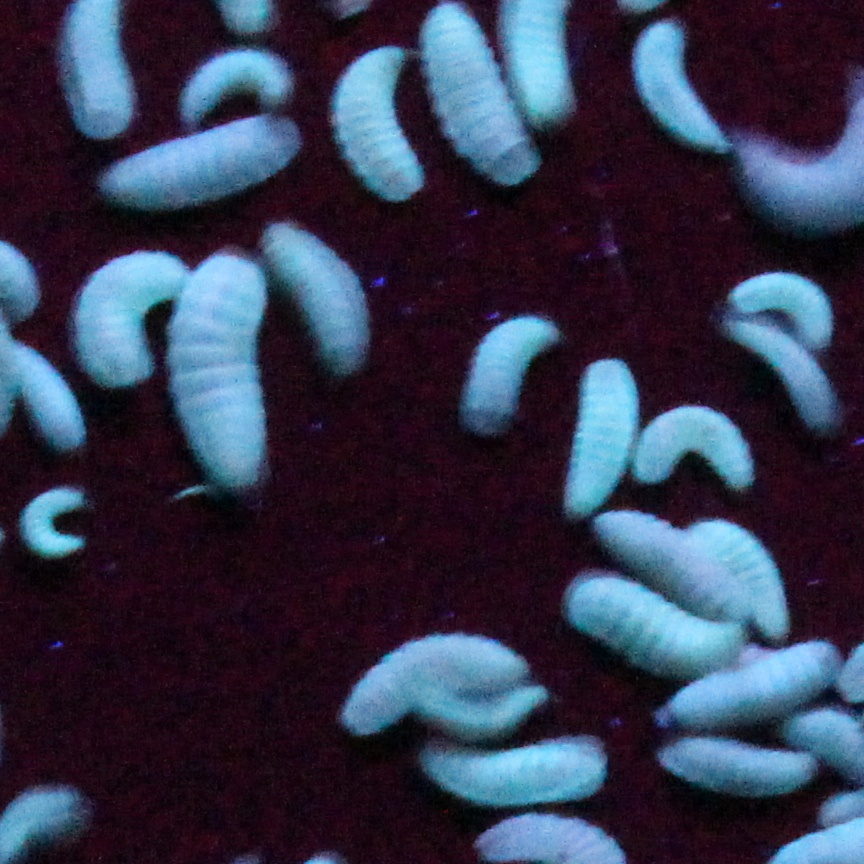larve: (187, 245, 268, 487), (114, 125, 291, 211), (436, 10, 526, 178), (275, 232, 377, 367), (615, 506, 732, 606), (591, 580, 728, 663), (78, 248, 164, 380), (686, 653, 828, 728), (345, 646, 496, 716), (643, 34, 726, 150), (347, 60, 417, 196), (430, 741, 601, 794), (464, 318, 540, 436), (573, 366, 628, 513), (743, 324, 826, 420), (723, 516, 791, 628), (643, 413, 752, 481), (738, 274, 838, 343), (184, 50, 291, 113), (14, 483, 91, 550), (437, 682, 547, 726), (674, 748, 796, 785), (26, 350, 70, 446)
